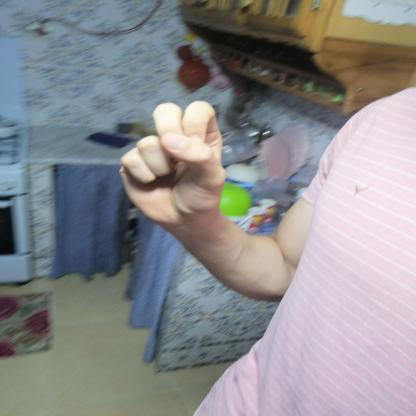QAAF: (104, 94, 246, 237)
